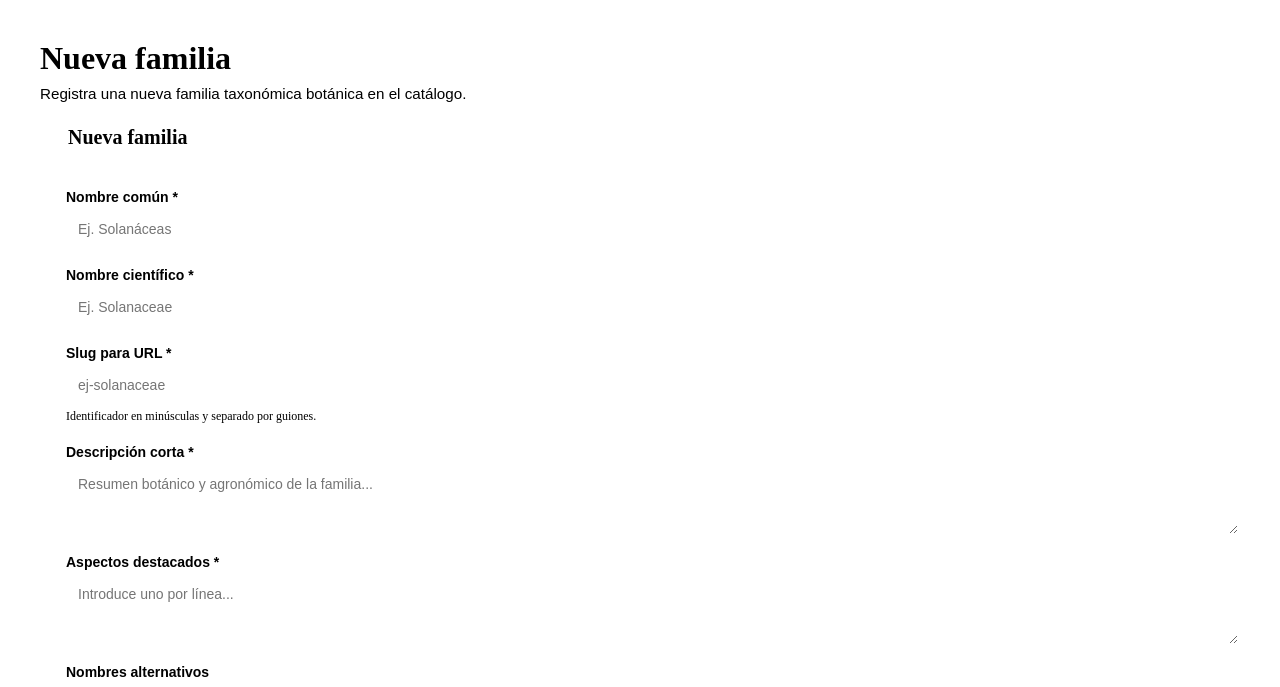
Test case: FamilyCreatePage › keeps form open when user cancels confirmation modal
Type "Solanáceas" into the field labelled "Nombre común *". click: (652, 229)
box: [66,211,1238,247]
(page scrolled)
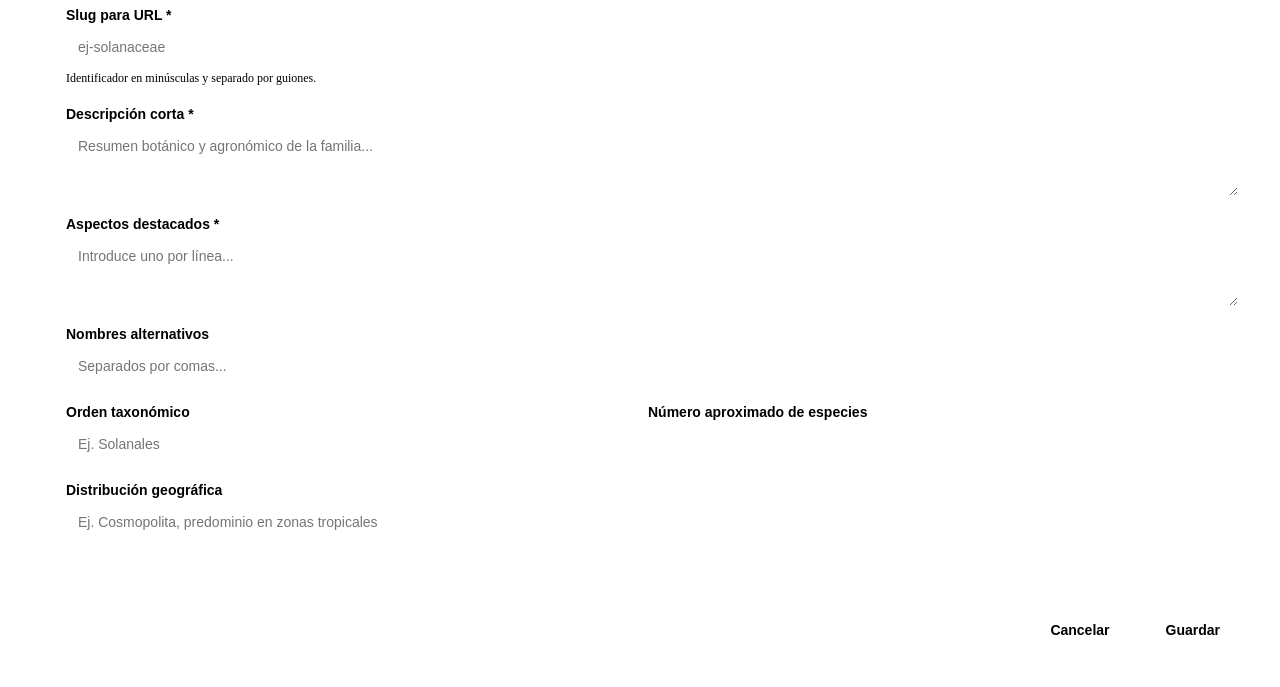
Click the button "Cancelar". click: (1080, 630)
box: [1030,612,1130,648]
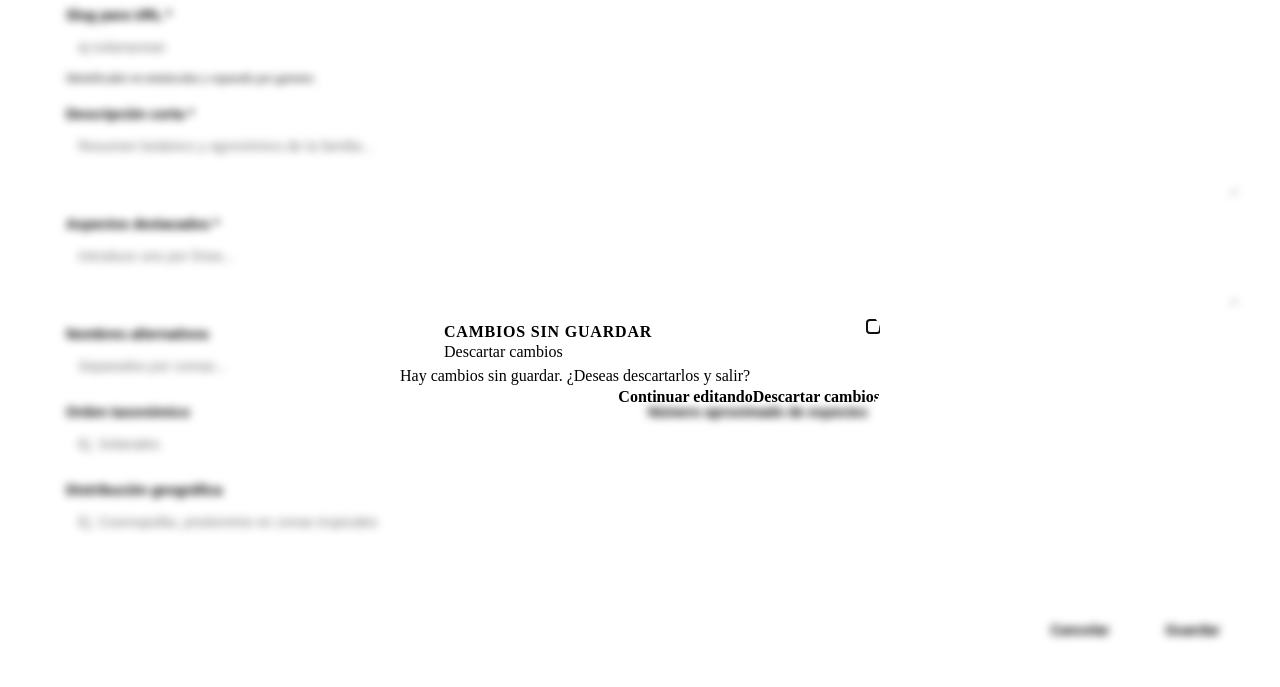
Click the button "Continuar editando". click: (686, 397)
box: [618,388,753,406]
(page scrolled)
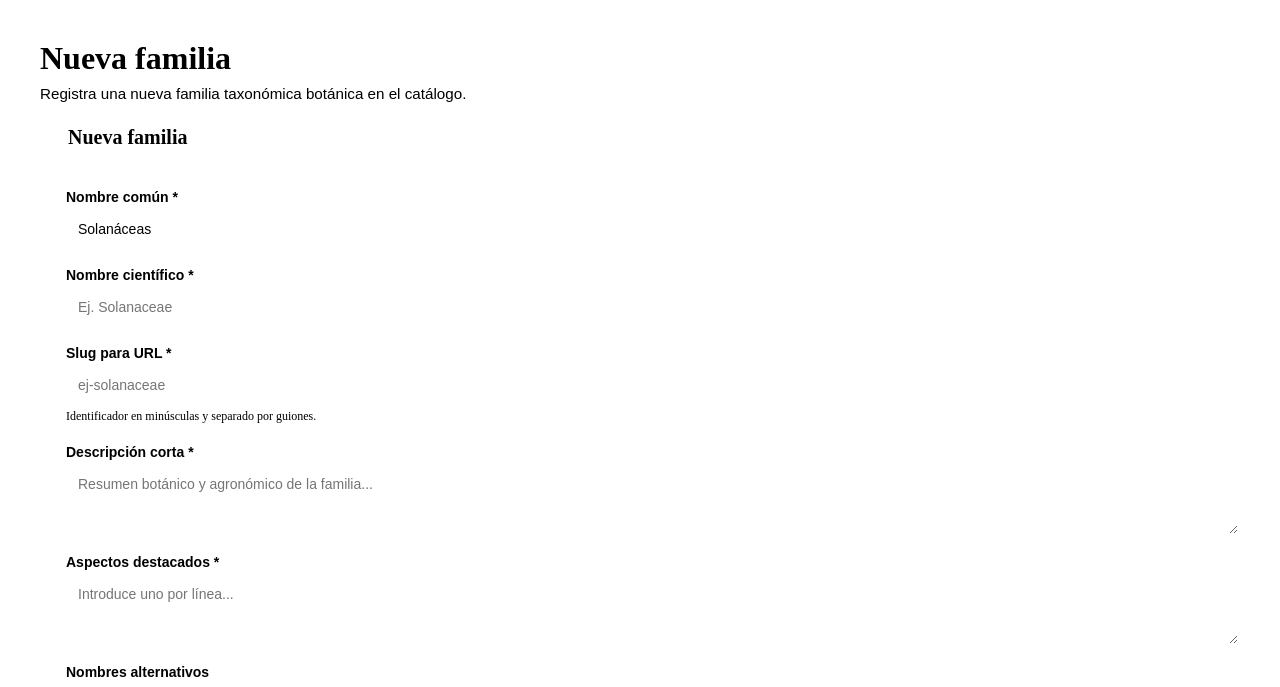
Check: the dialog is gone
